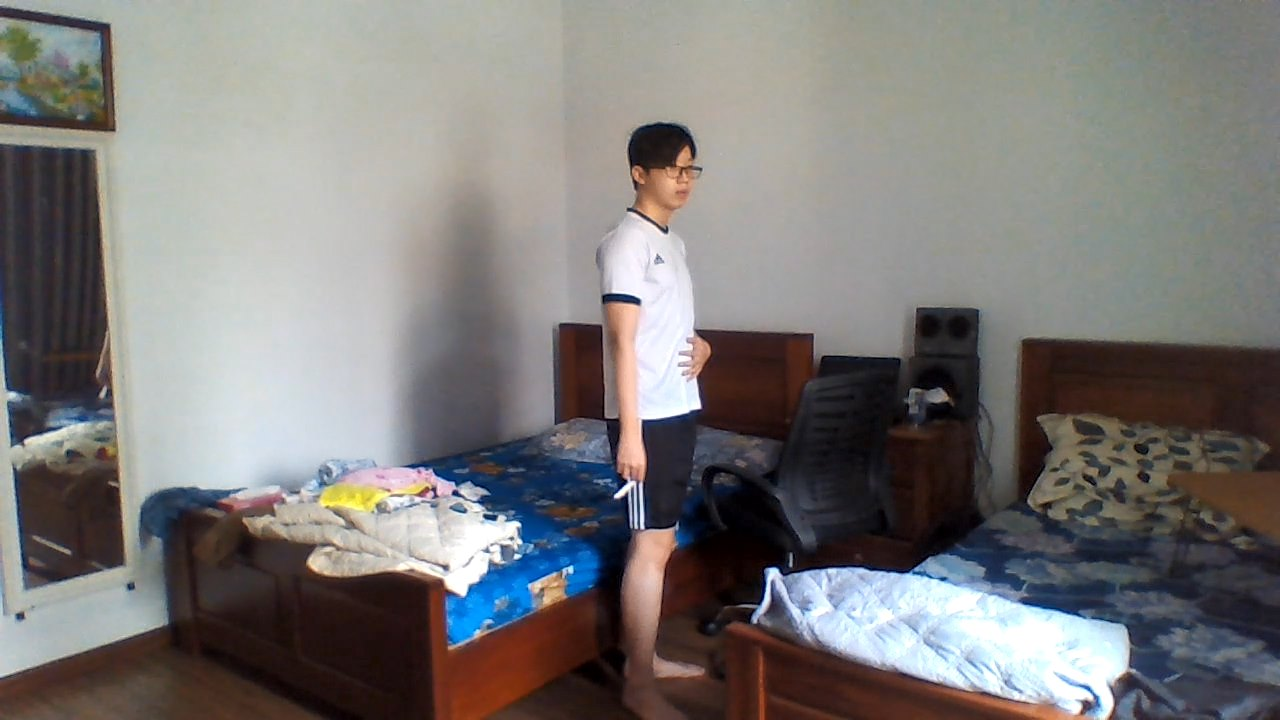cigarette: (613, 479, 637, 502)
person: (576, 106, 719, 720)
